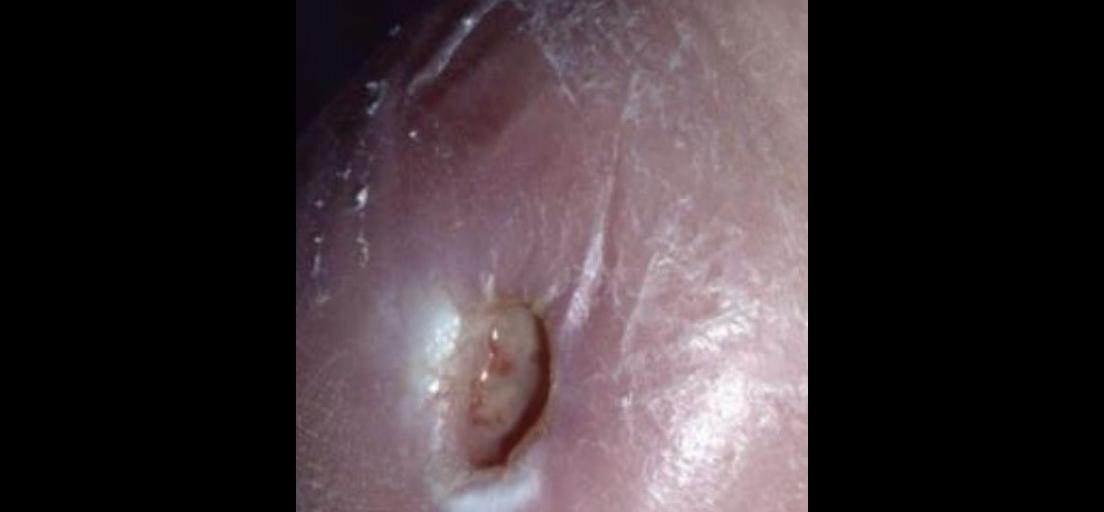Stage3: (371, 180, 665, 511)
